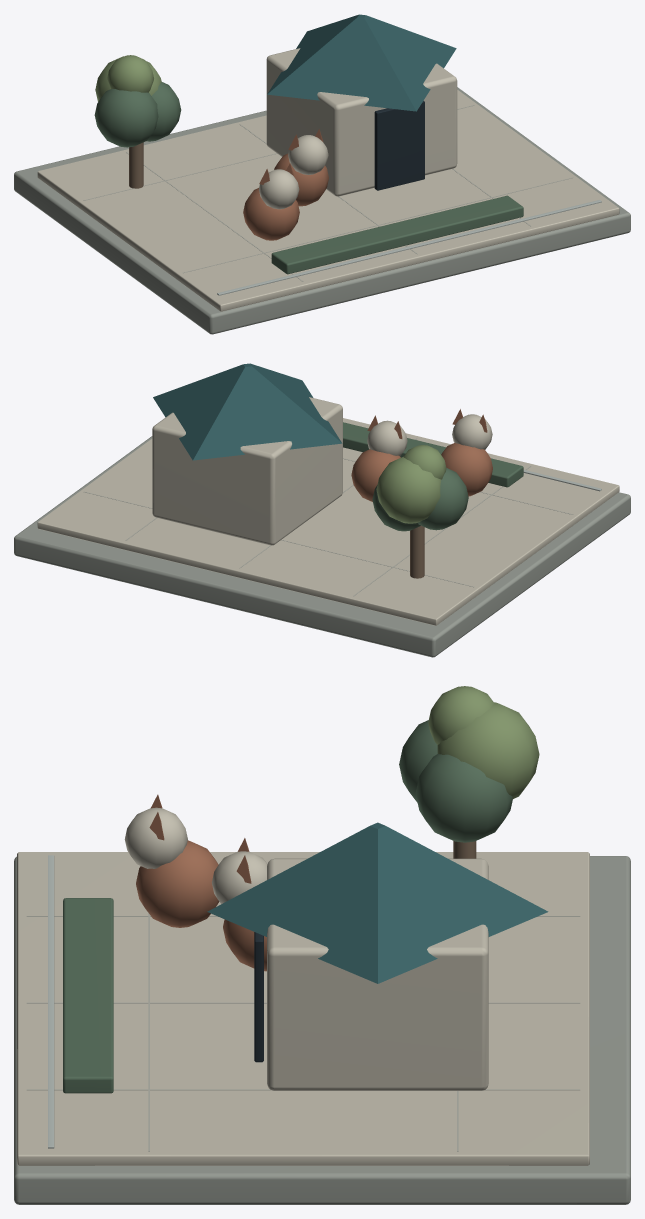
Rendered from idea-df4d2e17.glb.
3 views of the same model, one above another, from view 1: azimuth 30°, elevation 25°; view 2: azimuth 150°, elevation 25°; view 3: azimuth 270°, elevation 25° (orthographic). The views are drawn at different scales.
Visible parts, largest first — view 1: Pet Comfort Ledger; view 2: Pet Comfort Ledger; view 3: Pet Comfort Ledger.
Boxes of the visible parts, x1,y1,x2,y2 form: Pet Comfort Ledger: [14, 14, 630, 334]; Pet Comfort Ledger: [14, 363, 630, 657]; Pet Comfort Ledger: [14, 686, 630, 1204].
Size of the model in its own units: 4.8 by 1.84 by 3.9.
